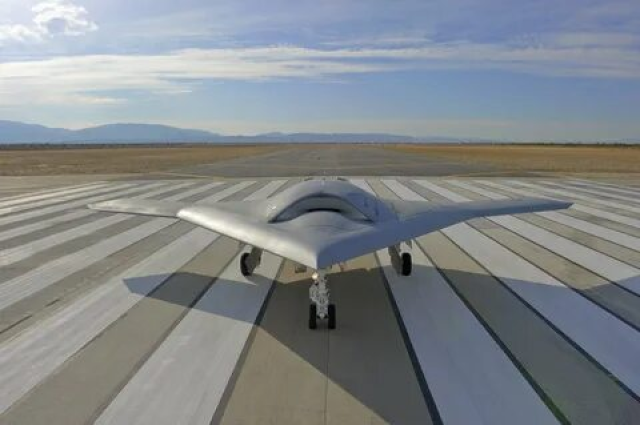military drone: (86, 176, 574, 329)
